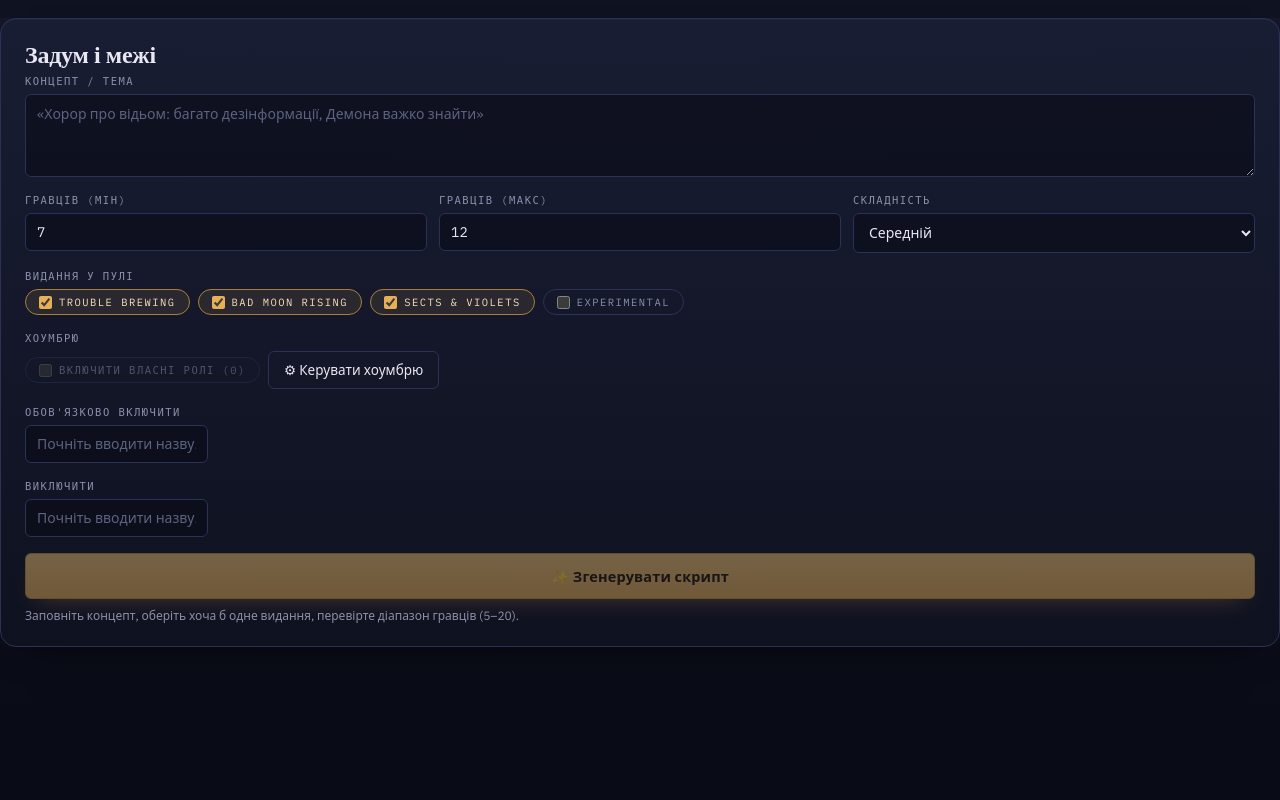
Test: ConceptForm › disables submit until a concept is entered
Check: the button "✨ Згенерувати скрипт" is disabled, box [25, 553, 1255, 599]
Replace the text in the text box with placeholder "Хорор про відьом" with "witches, lots of misinformation" at (640, 136), box [25, 94, 1255, 177]
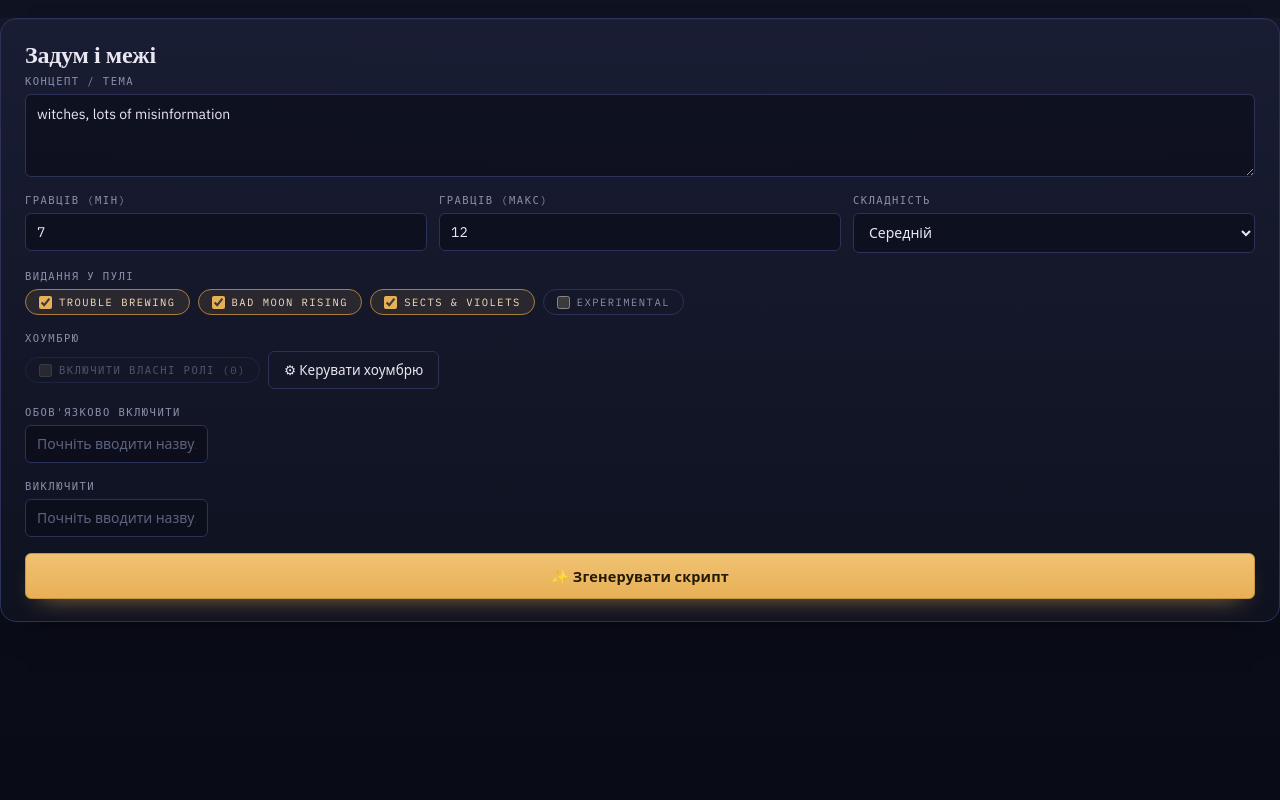
Check: the button "✨ Згенерувати скрипт" is enabled, box [25, 553, 1255, 599]
